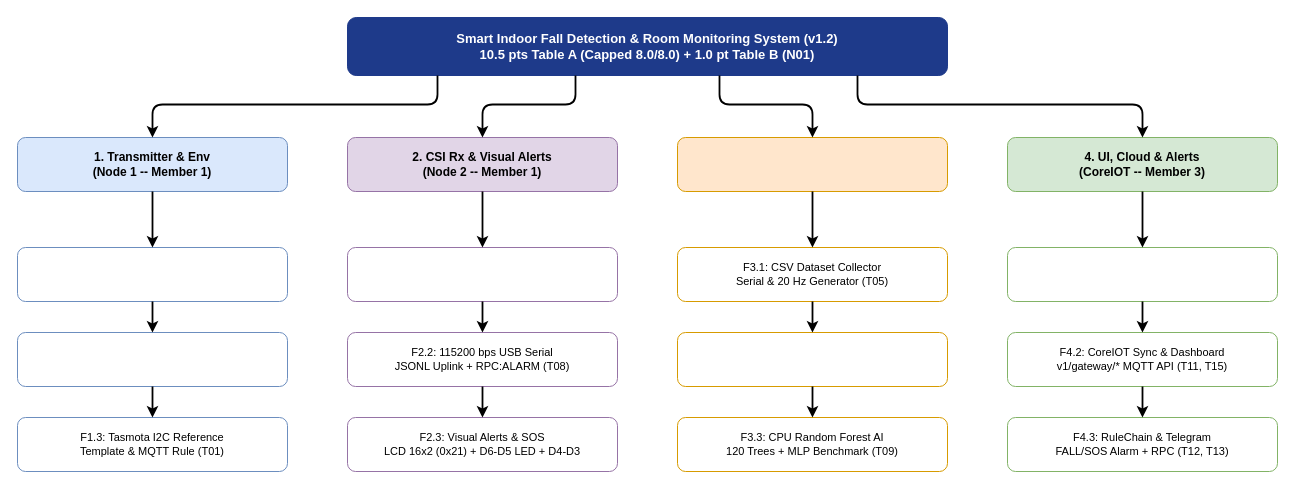
The diagram is 1295 pixels wide and 489 high, and some of its shapes have lost their labels. The centre of each missing label's shape, as x and y in pixels:
3. Data & CPU AI Engine (PC Gateway -- Member 2): pixel 812 164
F1.1: Non-Blocking I2C DHT20 0x38 Temp/Humi + CRC-8 (T01): pixel 152 274
F1.2: 20 Hz ESP-NOW Probe 24-Byte Frame 0xC51A (T06): pixel 152 359
F2.1: Auto-Pair PHY CSI Rx 52 Active OFDM Subcarriers (T06): pixel 482 274
F3.2: Statistical Signal DSP Moving Avg (W=3) + 12 Features: pixel 812 359
F4.1: Local Gateway & UI Streamlit Live + N01 Q&A (T08, T10): pixel 1142 274
